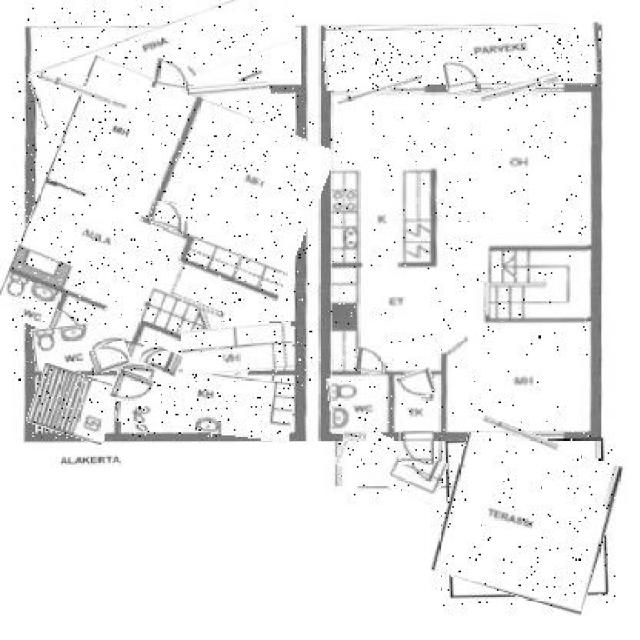door: (112, 371, 152, 406), (152, 58, 188, 92), (444, 58, 478, 94), (398, 430, 434, 464), (140, 346, 183, 374), (91, 343, 131, 371), (398, 371, 436, 400), (150, 203, 188, 231), (357, 348, 385, 374)
window: (39, 78, 128, 102), (483, 423, 560, 445), (337, 80, 423, 98), (480, 78, 560, 97), (188, 81, 268, 94), (343, 432, 366, 440)
zone: (14, 74, 315, 388), (330, 92, 588, 432), (437, 431, 615, 606), (28, 5, 298, 106), (142, 80, 302, 235), (325, 26, 600, 86), (117, 369, 294, 437), (337, 432, 446, 496), (31, 369, 115, 440), (180, 323, 294, 374), (328, 374, 388, 432), (391, 372, 440, 432), (32, 325, 92, 369)
